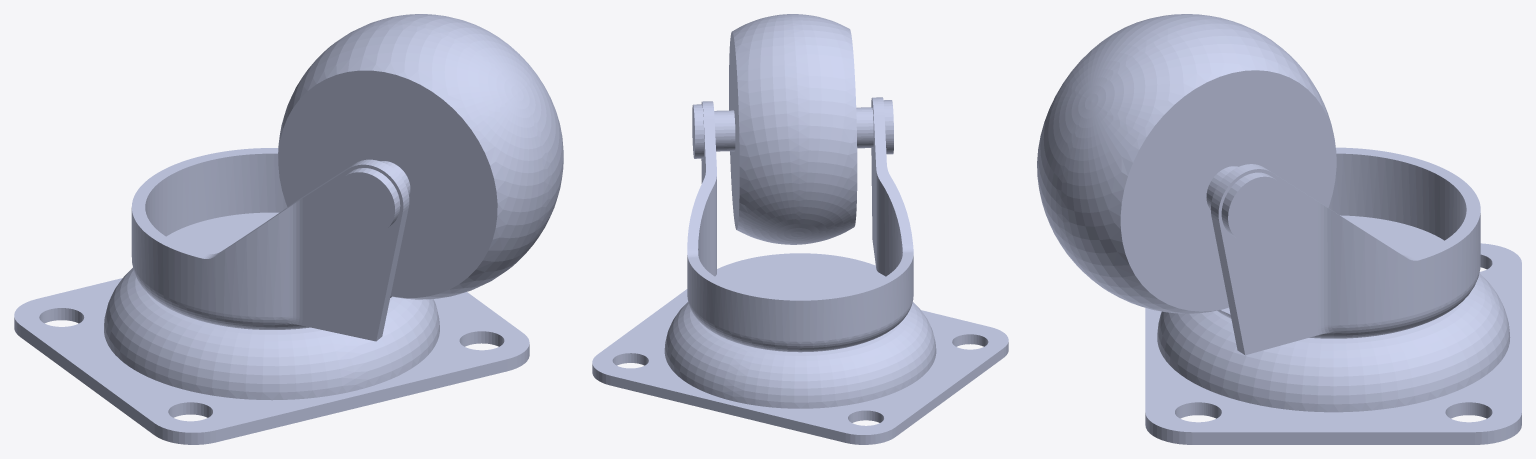
The model's file is rodinha.dae.
3 renders of one model, left to right at view 1: azimuth 30°, elevation 25°; view 2: azimuth 150°, elevation 25°; view 3: azimuth 270°, elevation 25°, orthographic. The views are drawn at different scales.
Parts seen in each view (by area): view 1: Part 3, Part 1, Part 2, Part 4; view 2: Part 1, Part 3, Part 2, Part 4, Part 5; view 3: Part 3, Part 1, Part 2, Part 4.
Boxes of the visible parts, x1,y1,x2,y2 form: Part 3: (278, 14, 563, 299); Part 1: (14, 268, 529, 444); Part 2: (131, 148, 409, 341); Part 4: (335, 161, 410, 234); Part 1: (592, 289, 1008, 444); Part 3: (729, 14, 857, 244); Part 2: (687, 97, 913, 352); Part 4: (692, 100, 893, 158); Part 5: (755, 273, 845, 295); Part 3: (1037, 14, 1336, 313); Part 1: (1145, 243, 1521, 444); Part 2: (1210, 147, 1480, 355); Part 4: (1206, 166, 1286, 242).
Bounding box in the file's own units: 0.0386 × 0.0412 × 0.034.
